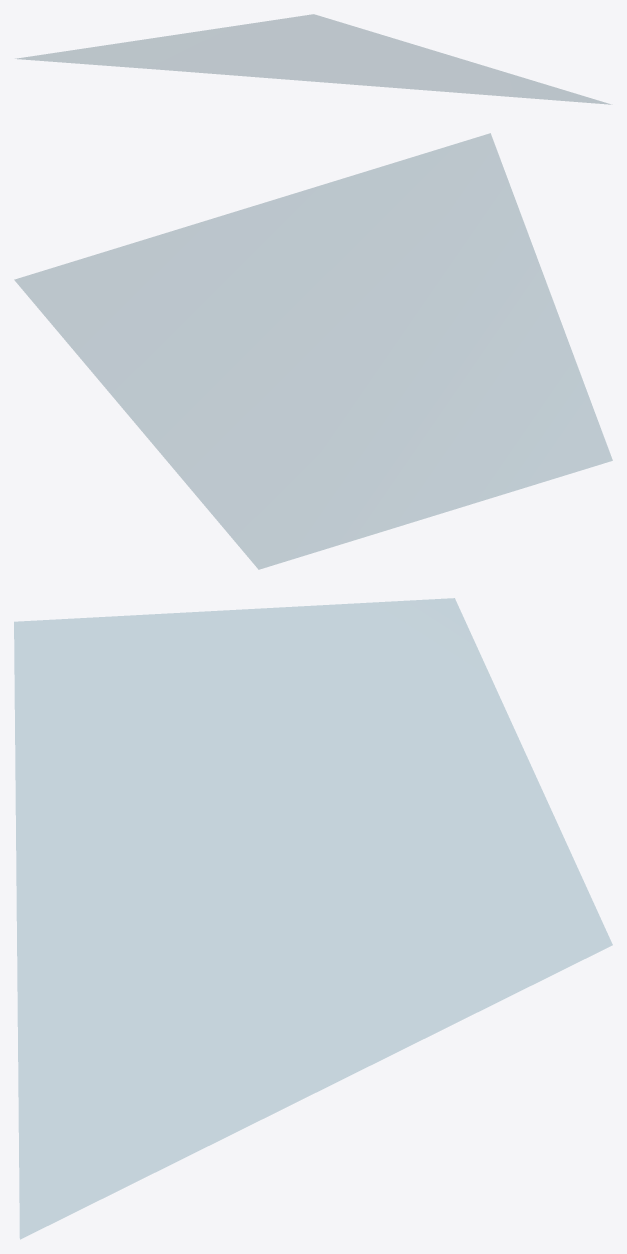
The model's file is Bridge_Glass_06.fbx.
The picture shows the model from 3 angles, top to bottom: view 1: azimuth 30°, elevation 25°; view 2: azimuth 150°, elevation 25°; view 3: azimuth 270°, elevation 25°; orthographic projection. The views are drawn at different scales.
Parts seen in each view (by area): view 1: Bridge; view 2: Bridge; view 3: Bridge.
Part boxes in pixels (<box>): Bridge: <box>17,14,610,104</box>; Bridge: <box>15,133,612,569</box>; Bridge: <box>14,598,612,1239</box>.
Size of the model in its own units: 3020 by 974 by 1615.
